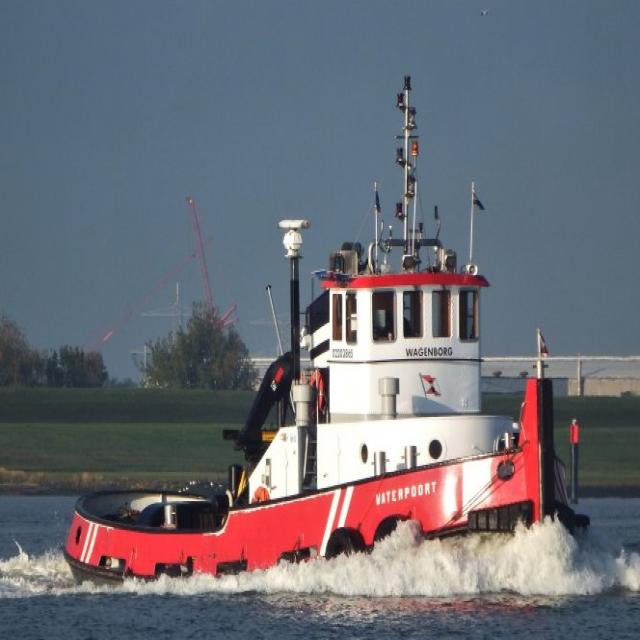tugboat: (58, 71, 597, 617)
